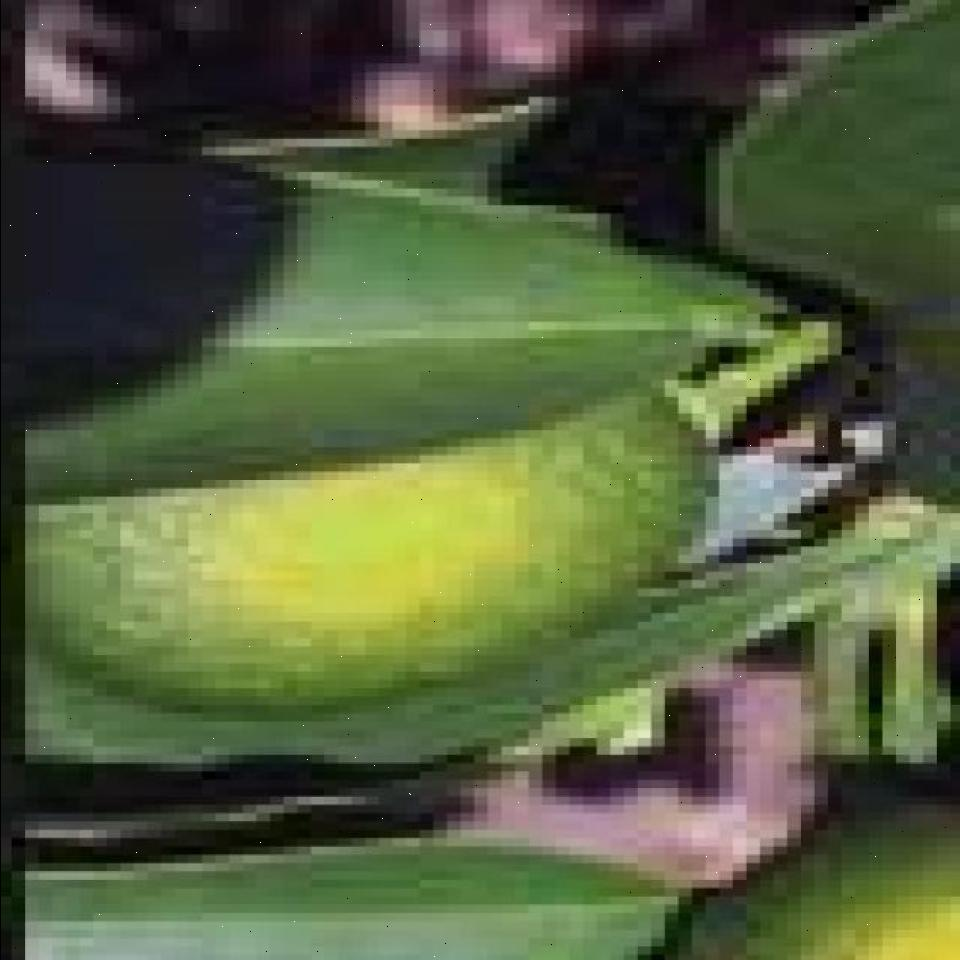Sunscald: (160, 455, 610, 647)
